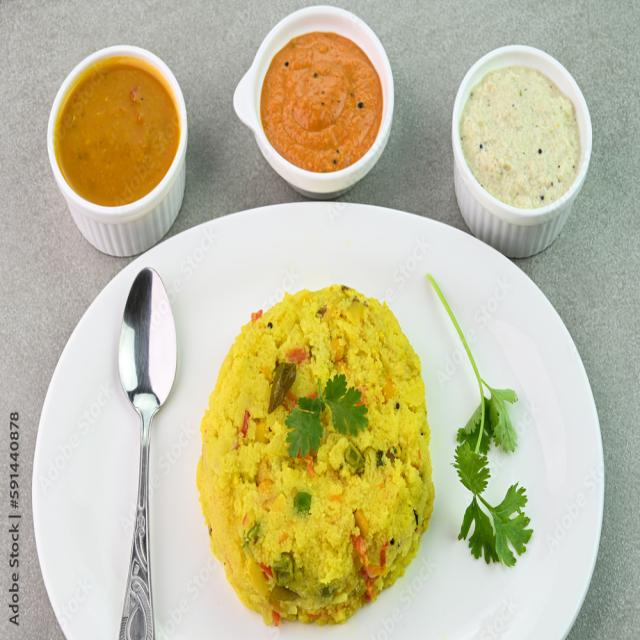UPMA: (193, 274, 446, 637)
